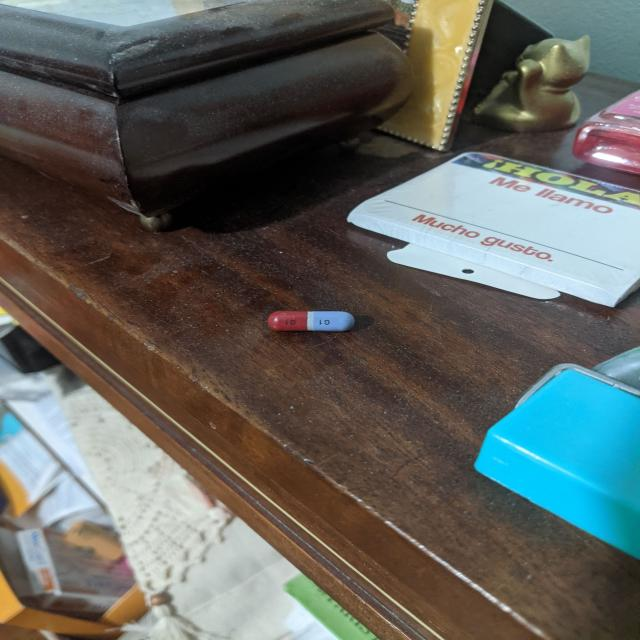non-organic waste: (266, 310, 356, 333)
